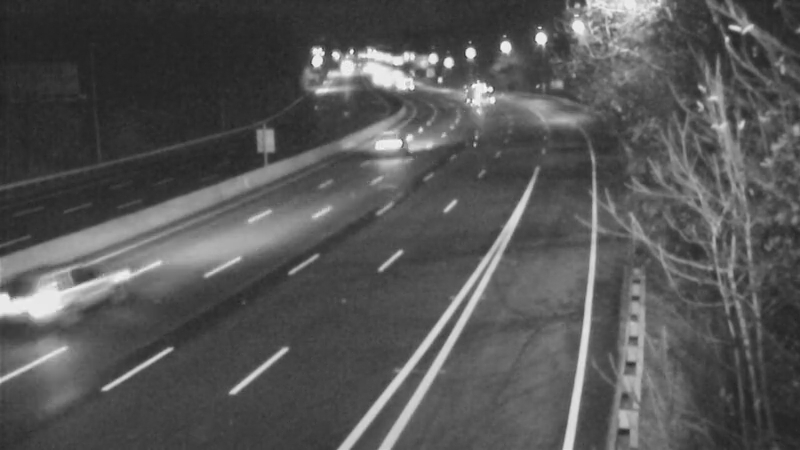vehicle: (8, 250, 88, 330), (446, 58, 496, 108), (378, 54, 428, 104), (461, 73, 511, 123), (365, 122, 415, 172)
